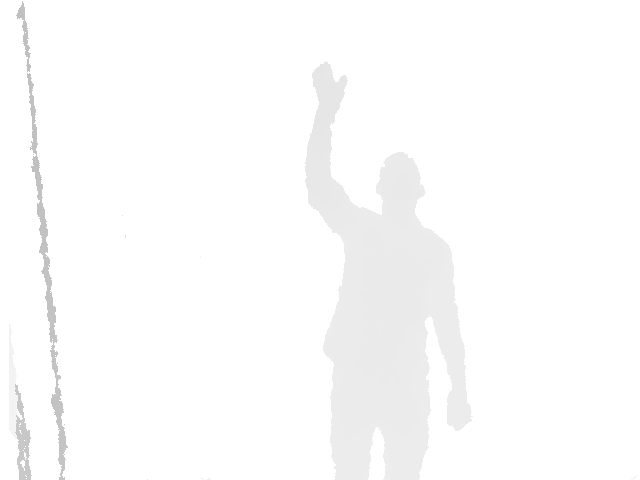hand: (311, 62, 348, 114)
hand_down: (446, 390, 472, 432)
head: (376, 152, 426, 213)
person: (304, 62, 473, 480)
